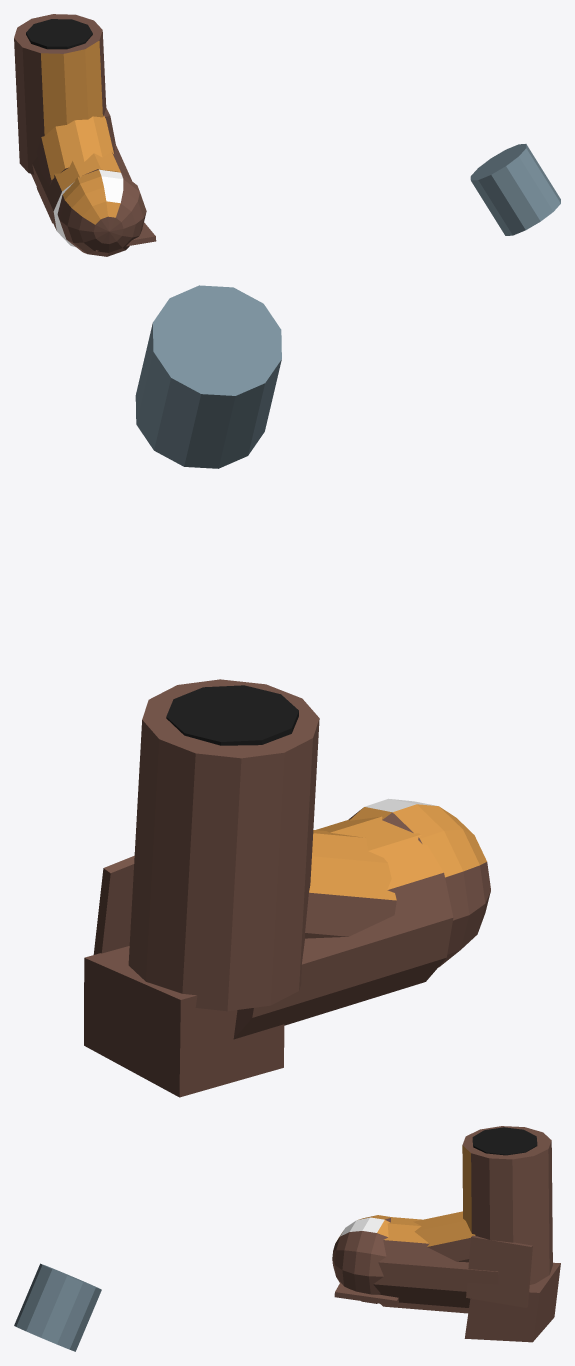
File: boot.obj
3 views of the same model, one above another, from view 1: azimuth 30°, elevation 25°; view 2: azimuth 150°, elevation 25°; view 3: azimuth 270°, elevation 25° (orthographic). The views are drawn at different scales.
Visible parts, largest first — view 1: group1857261620, group916002974, group1208846067, group1650292541, group1705218323, group2044799114, group689347577; view 2: group1857261620, group1208846067, group1705218323, group970467367, group1650292541, group916002974, group2044799114, group80382754; view 3: group1857261620, group1705218323, group1208846067, group970467367, group80382754, group916002974, group1650292541, group2044799114, group689347577.
Part boxes in pixels (box(x1,y1,x2,y2)): group1857261620: box(14, 14, 106, 174); group916002974: box(57, 169, 146, 256); group1208846067: box(470, 144, 560, 235); group1650292541: box(36, 115, 114, 185); group1705218323: box(31, 143, 131, 247); group2044799114: box(26, 19, 92, 49); group689347577: box(95, 222, 156, 251); group1857261620: box(128, 679, 319, 1011); group1208846067: box(135, 285, 281, 468); group1705218323: box(233, 816, 453, 1039); group970467367: box(84, 946, 284, 1097); group1650292541: box(305, 830, 396, 938); group916002974: box(348, 798, 490, 967); group2044799114: box(166, 685, 298, 745); group80382754: box(93, 855, 134, 954); group1857261620: box(462, 1126, 552, 1284); group1705218323: box(373, 1217, 498, 1313); group1208846067: box(14, 1263, 101, 1351); group970467367: box(464, 1262, 560, 1342); group80382754: box(466, 1235, 532, 1307); group916002974: box(332, 1215, 390, 1303); group1650292541: box(413, 1211, 475, 1262); group2044799114: box(472, 1127, 537, 1155); group689347577: box(334, 1282, 398, 1305).
Bounding box in the file's own units: 0.3412 × 0.178 × 0.4863.
